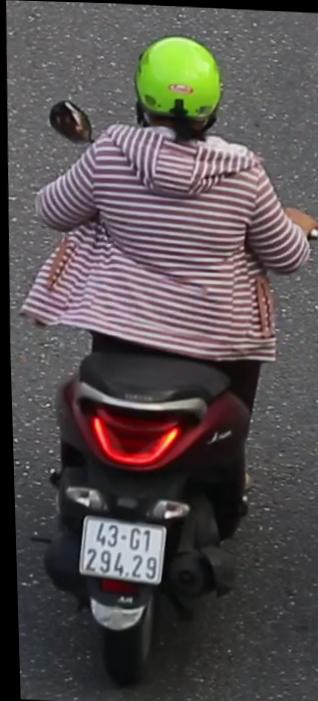LP: (72, 509, 166, 587)
helmet: (128, 28, 230, 152)
